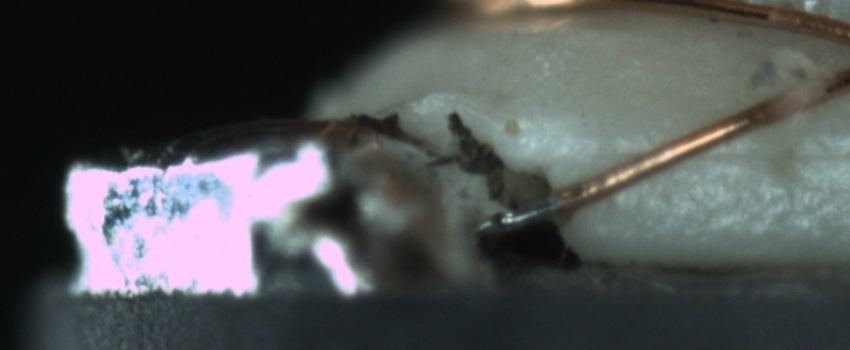DL: (625, 126, 849, 183)
TS: (490, 195, 565, 228)
